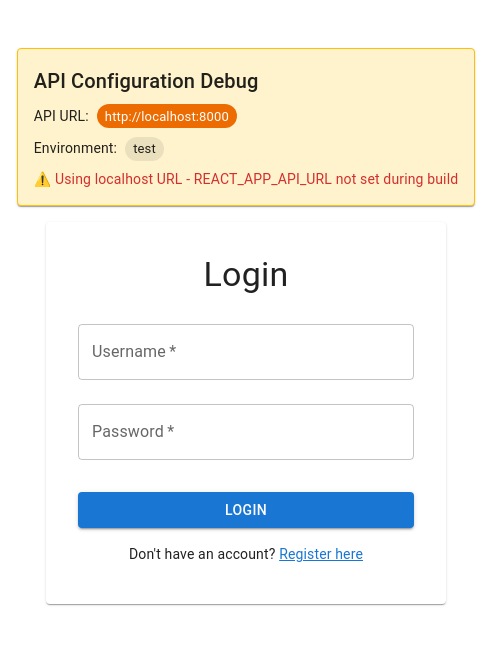
Test: Login Component › Form Submission › should display error message on login failure
Type "testuser" into the field labelled "Username *" at [246, 352], box [78,324,414,380]
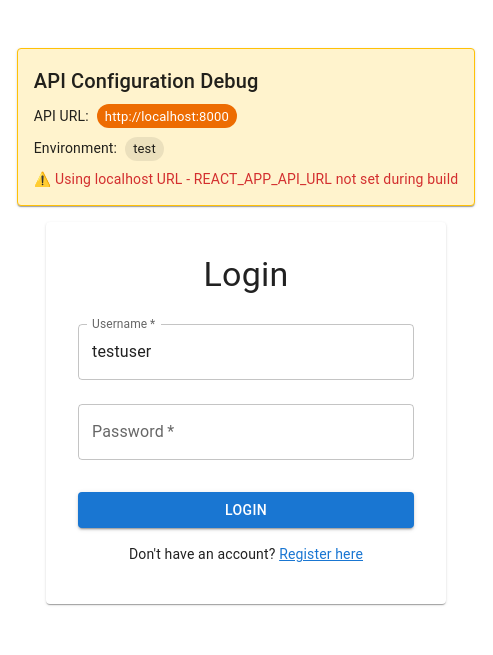
Type "wrongpass" into the password field labelled "Password *" at [246, 432], box [78,404,414,460]
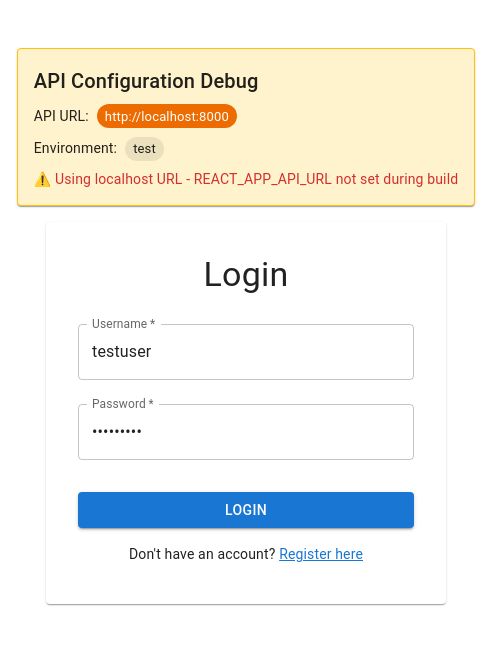
Click the button "Login" at [246, 510], box [78,492,414,528]
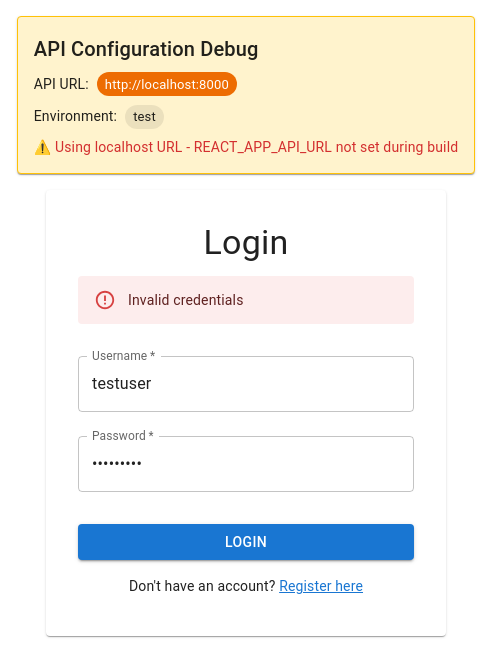
expect the text "Invalid credentials" is shown: met, box [128,292,244,308]
